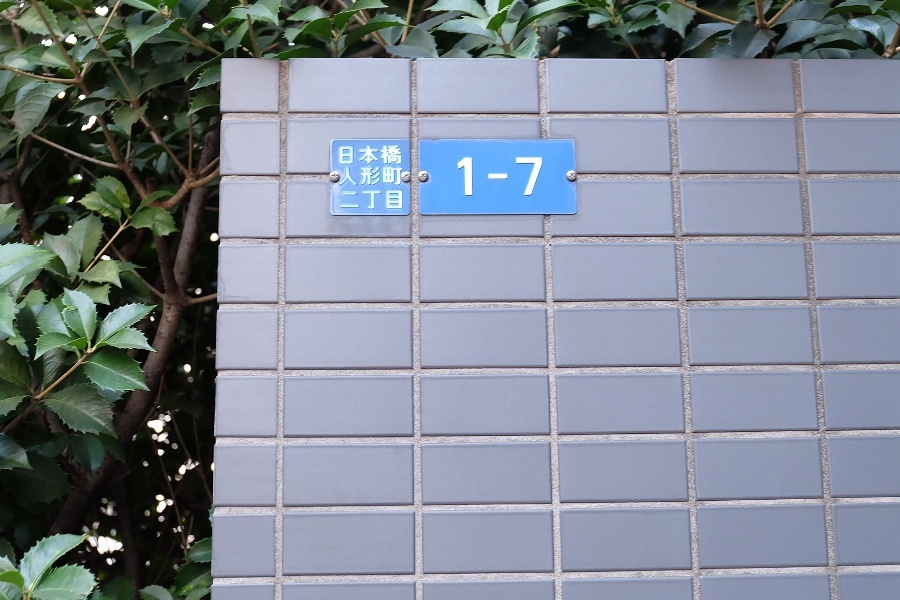text: (465, 157, 480, 196), (481, 157, 496, 196), (497, 157, 512, 196), (513, 157, 528, 196), (529, 157, 542, 196), (353, 145, 368, 165), (369, 145, 384, 165), (385, 145, 400, 165), (353, 167, 368, 186), (369, 167, 384, 186), (385, 167, 400, 186), (353, 191, 368, 209), (369, 191, 384, 209), (385, 191, 400, 209), (339, 145, 352, 165), (458, 157, 464, 196), (340, 167, 352, 186), (341, 191, 352, 209), (401, 167, 403, 186), (401, 191, 403, 209), (401, 145, 402, 165)
